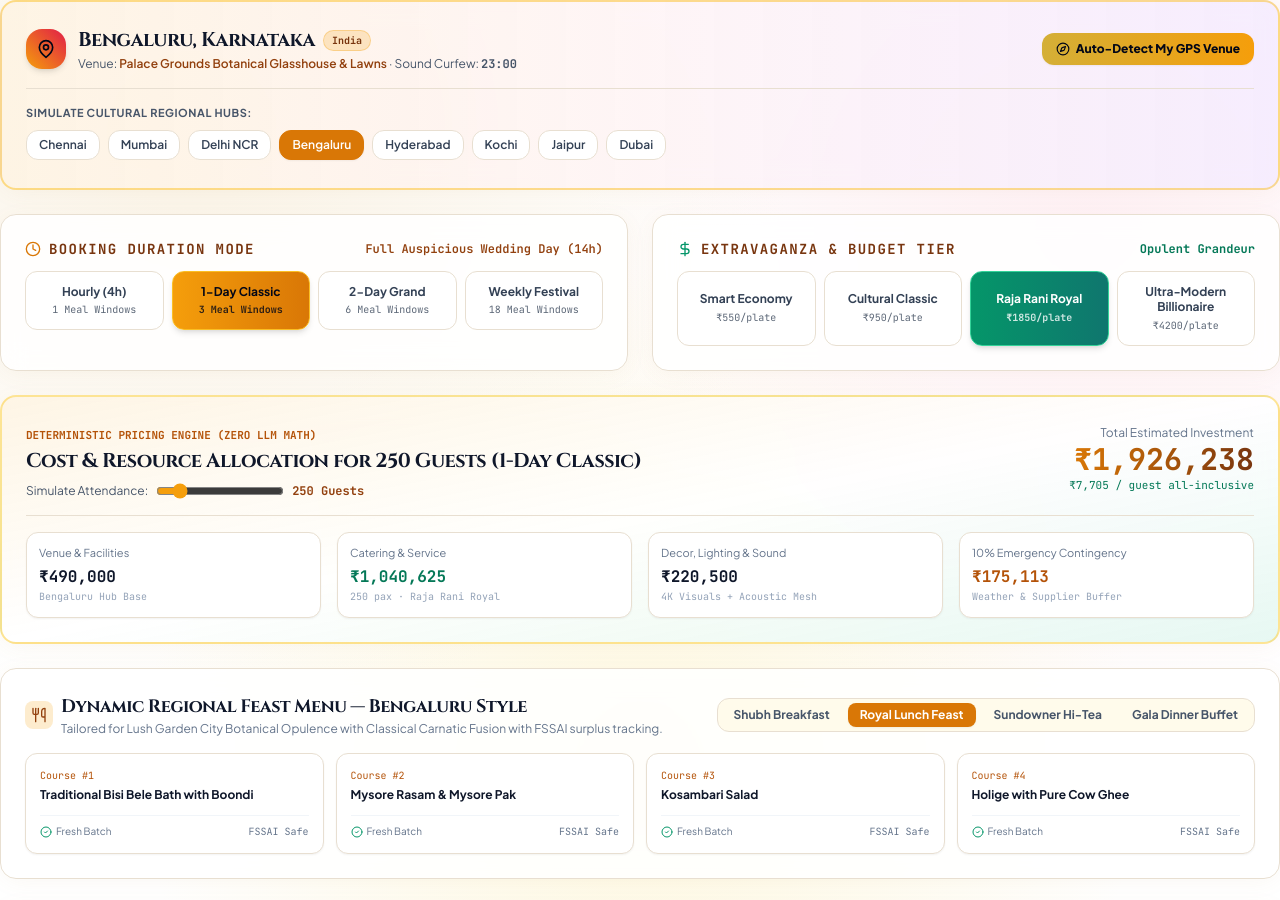
DynamicItineraryMenu Unit Tests › switches location to Chennai and updates authentic South Indian delicacies and venue
The width and height of the screenshot is (1280, 900).
# Click on Chennai location button
Click the button "Chennai". click: (63, 144)
box: x1=26 y1=130 x2=100 y2=160
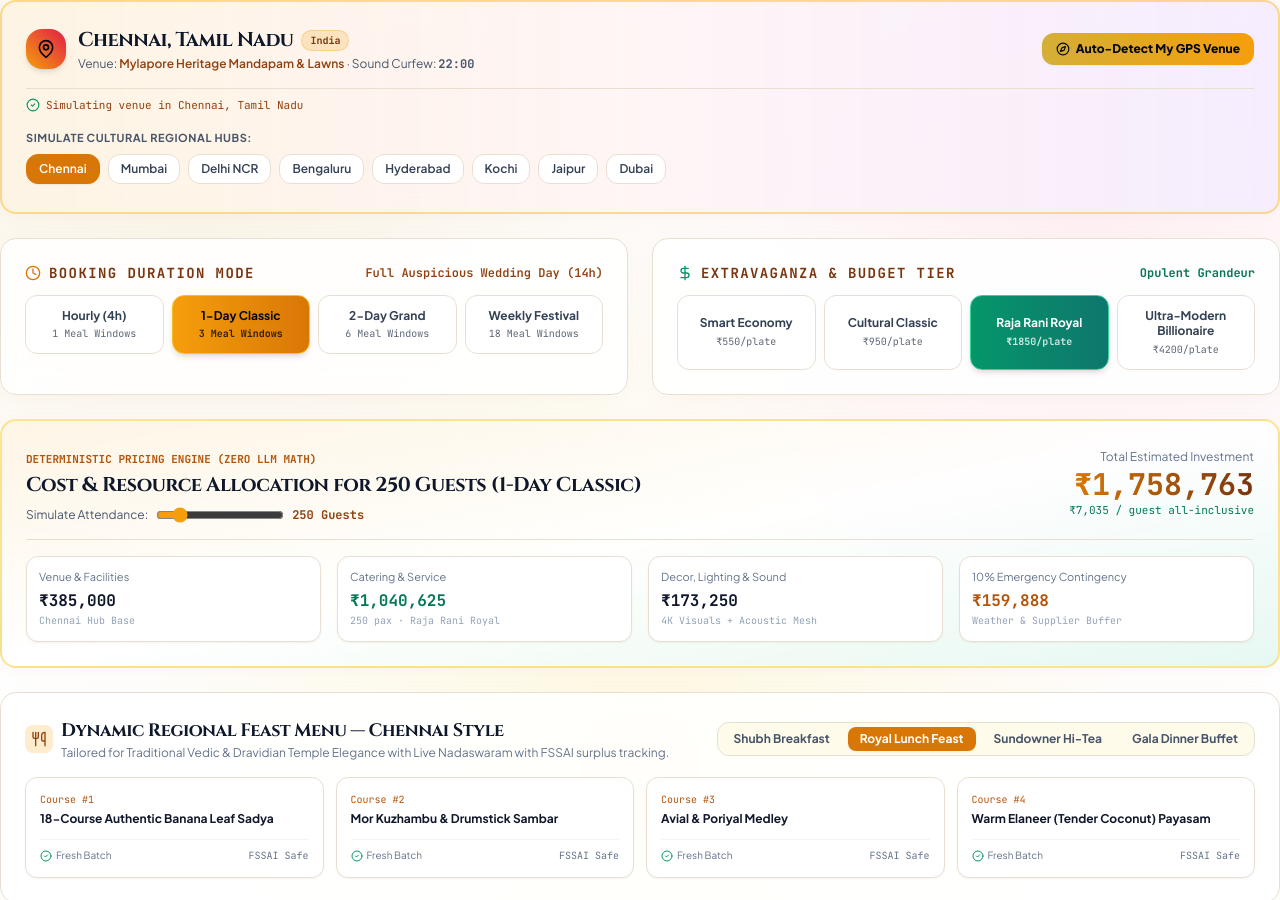
Check: the text "Mylapore Heritage Mandapam & Lawns" is shown, box x1=119 y1=56 x2=344 y2=71
Check: the heading "18-Course Authentic Banana Leaf Sadya" is shown, box x1=40 y1=811 x2=308 y2=828
# Switch to Breakfast tab to verify Degree Kaapi
Click the button "Shubh Breakfast". click: (782, 739)
box: x1=722 y1=727 x2=842 y2=751
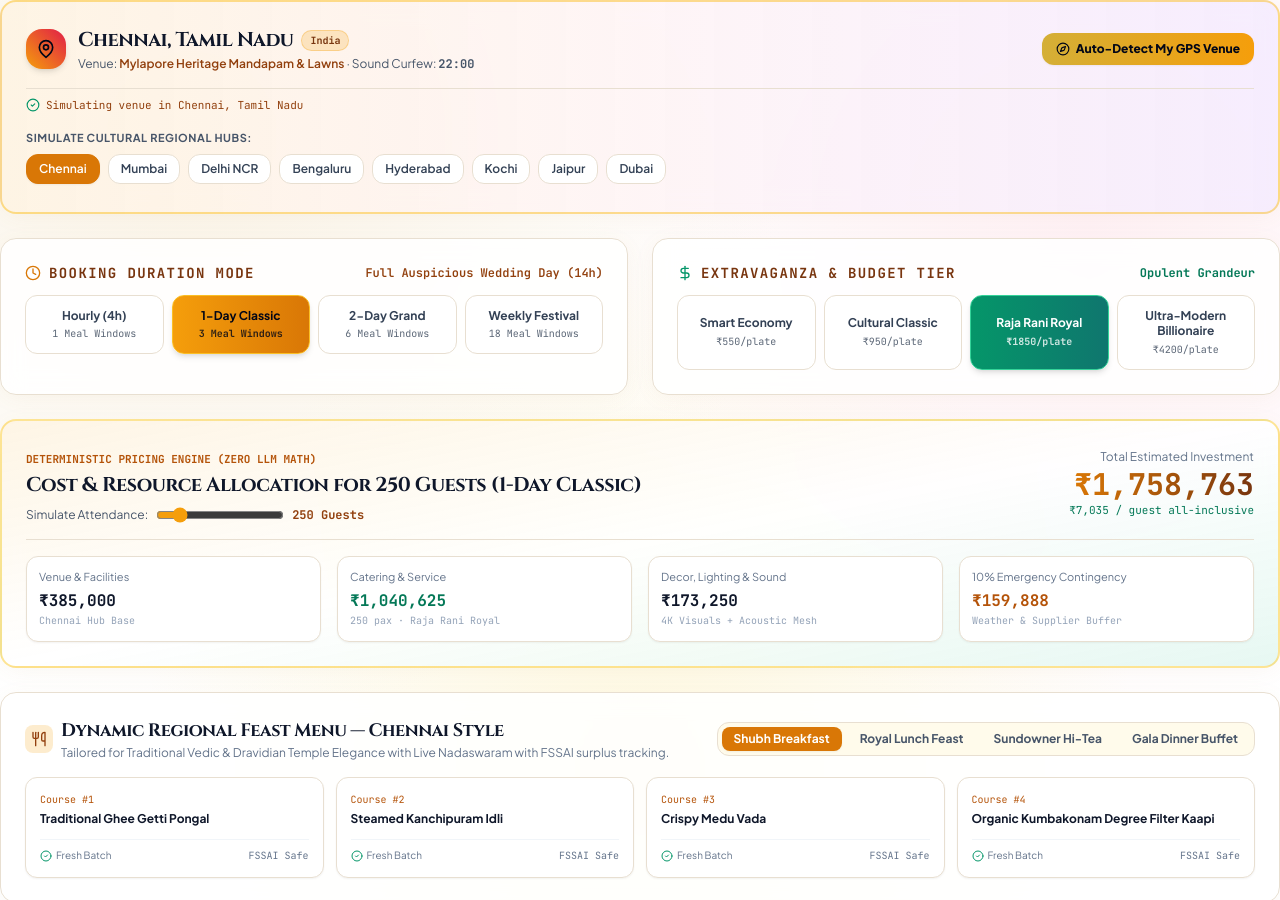
Check: the heading "Organic Kumbakonam Degree Filter Kaapi" is shown, box x1=972 y1=811 x2=1240 y2=828
